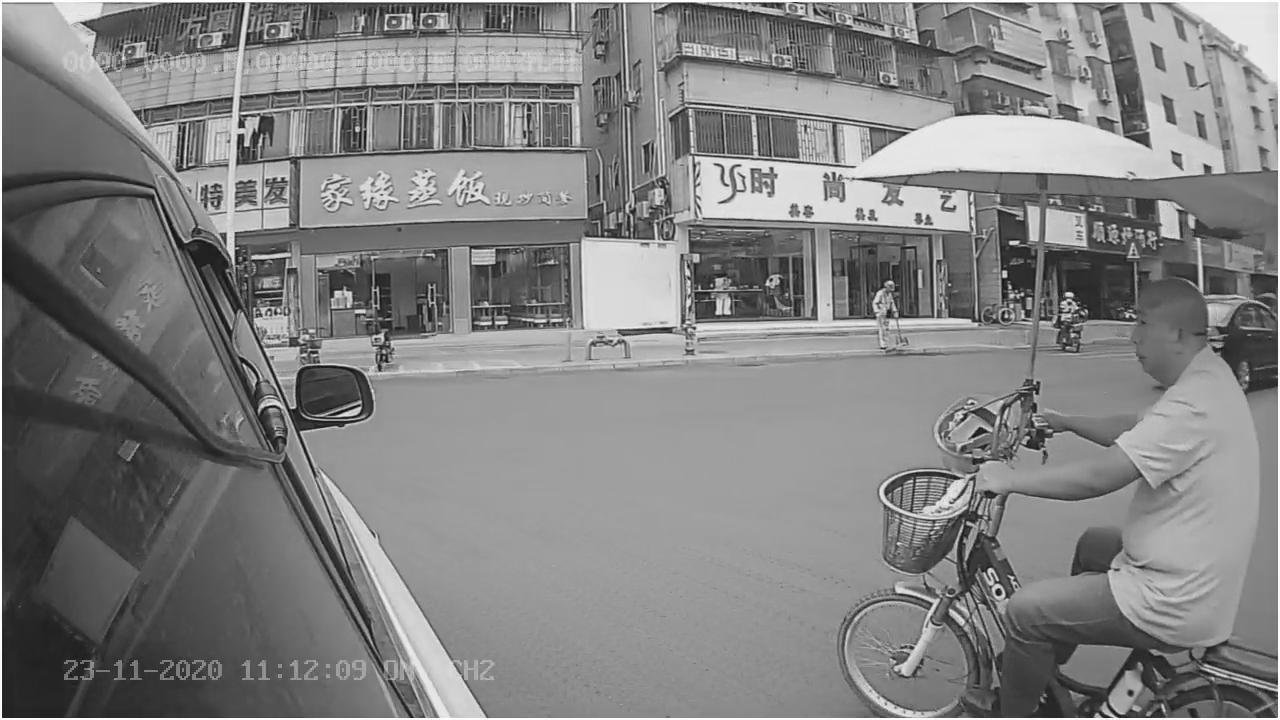person: (1055, 285, 1261, 654)
